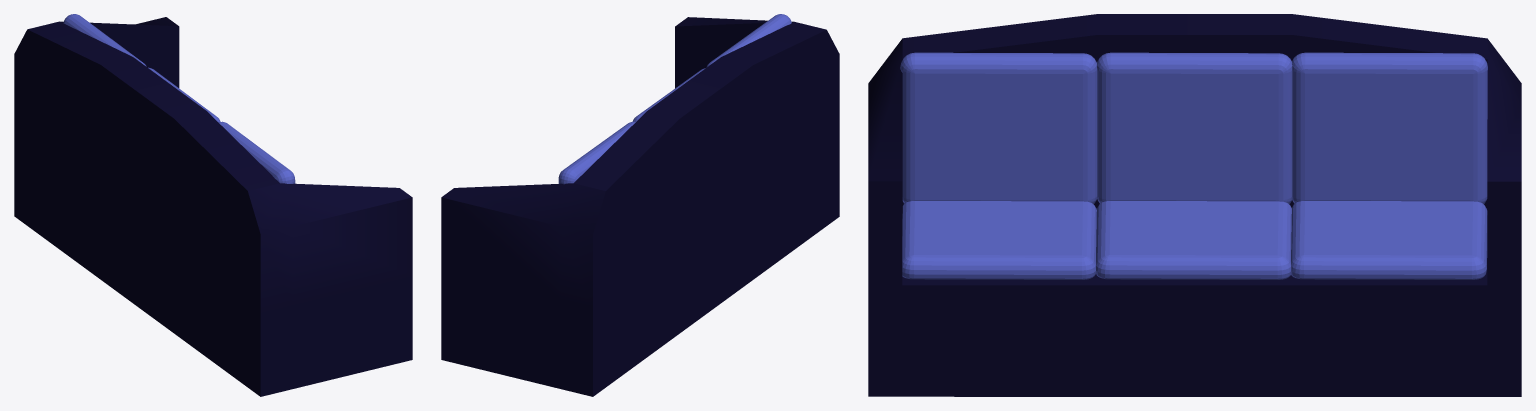
Rendered from livingroom_mediumsofa.fbx.
3 views of the same model, side by side, from view 1: azimuth 30°, elevation 25°; view 2: azimuth 150°, elevation 25°; view 3: azimuth 270°, elevation 25° (orthographic). The views are drawn at different scales.
Parts seen in each view (by area): view 1: sofa_1, cuchion_2_5, cuchion_2_7; view 2: sofa_1, cuchion_2_7, cuchion_2_5; view 3: sofa_1, cuchion_2_5, cuchion_2_7, cuchion_2_6, cuchion_7, cuchion_6, cuchion_5.
Part boxes in pixels (bbox=[...]): sofa_1: bbox=[14, 17, 412, 396]; cuchion_2_5: bbox=[218, 121, 295, 183]; cuchion_2_7: bbox=[63, 14, 146, 66]; sofa_1: bbox=[441, 17, 839, 396]; cuchion_2_7: bbox=[558, 121, 635, 184]; cuchion_2_5: bbox=[706, 14, 791, 67]; sofa_1: bbox=[868, 14, 1521, 396]; cuchion_2_5: bbox=[900, 52, 1097, 204]; cuchion_2_7: bbox=[1292, 52, 1487, 204]; cuchion_2_6: bbox=[1097, 52, 1292, 204]; cuchion_7: bbox=[1291, 201, 1487, 279]; cuchion_6: bbox=[1096, 201, 1291, 279]; cuchion_5: bbox=[902, 201, 1096, 279].
Bounding box in the file's own units: 63.65 × 85.91 × 179.
